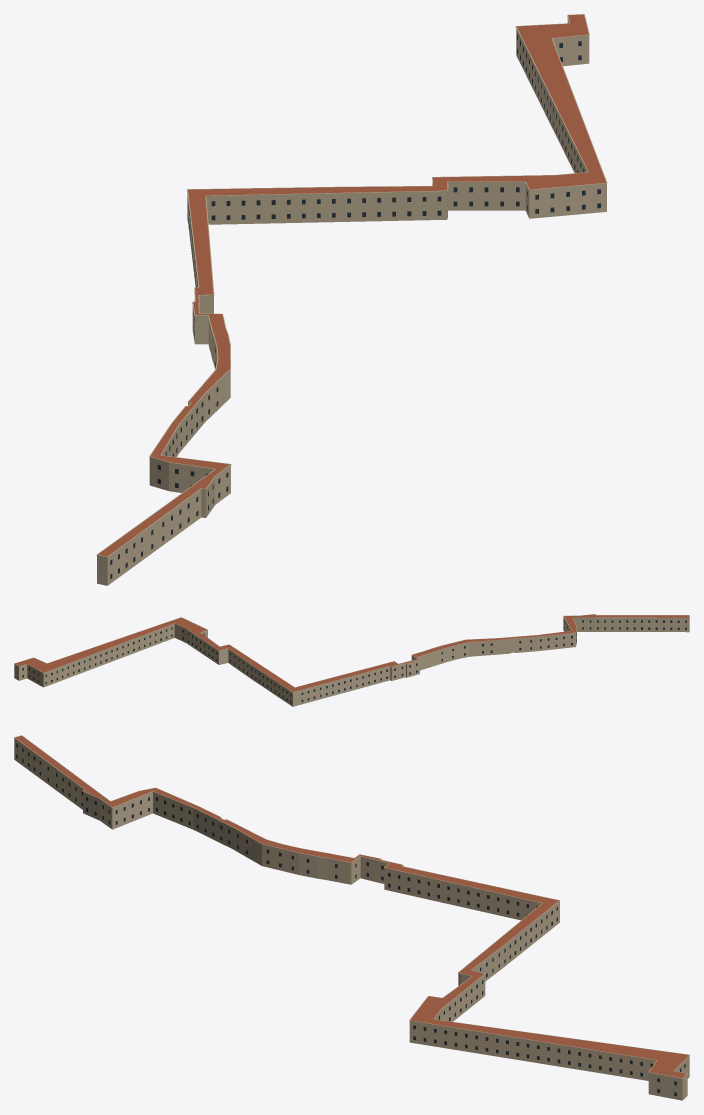
Rendered from vasari-corridor.glb.
The picture shows the model from 3 angles, top to bottom: view 1: azimuth 30°, elevation 25°; view 2: azimuth 150°, elevation 25°; view 3: azimuth 270°, elevation 25°; orthographic projection. The views are drawn at different scales.
Visible parts, largest first — view 1: mapped-part, mapped-roof, cornice, window-rhythm; view 2: mapped-part, mapped-roof, cornice, window-rhythm; view 3: mapped-part, mapped-roof, cornice, window-rhythm.
Boxes of the visible parts, x1,y1,x2,y2 form: mapped-part: (97, 18, 606, 585); mapped-roof: (98, 14, 606, 556); cornice: (96, 14, 607, 557); window-rhythm: (110, 34, 600, 579); mapped-part: (14, 617, 689, 706); mapped-roof: (15, 614, 689, 692); cornice: (14, 614, 689, 692); window-rhythm: (22, 620, 686, 703); mapped-part: (14, 738, 689, 1100); mapped-roof: (15, 735, 688, 1078); cornice: (14, 735, 689, 1079); window-rhythm: (16, 743, 685, 1096).
Size of the model in its own units: 16 by 0.4817 by 13.31.
